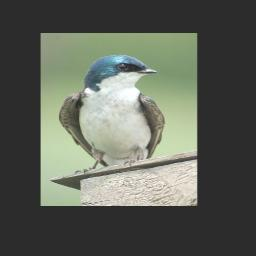Swallow: (59, 54, 166, 176)
